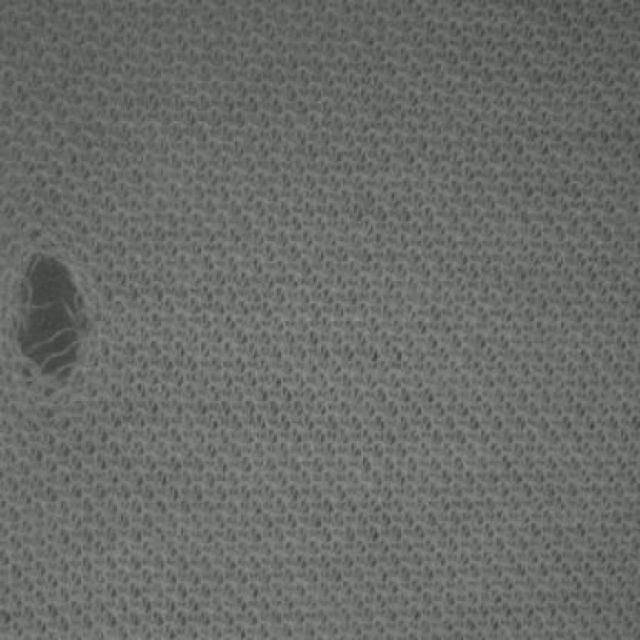Hole: (17, 254, 86, 378)
